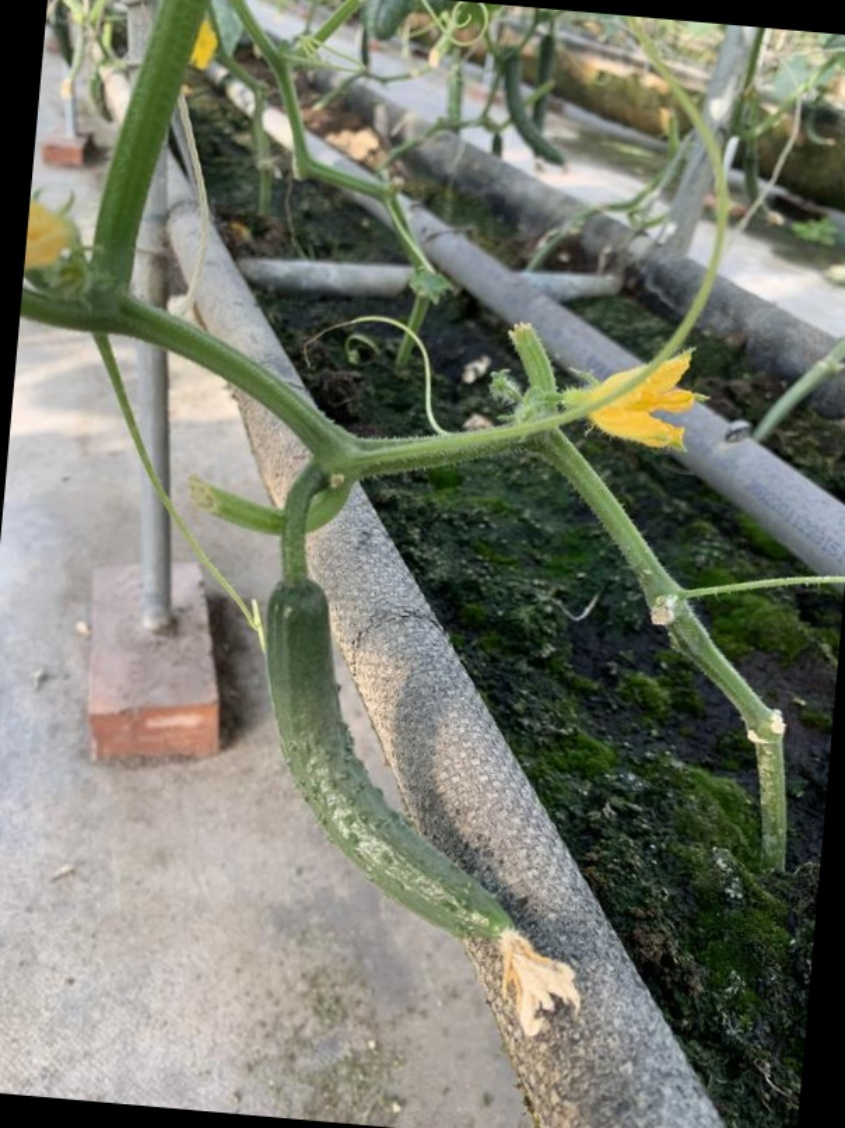growth: (255, 573, 558, 977)
